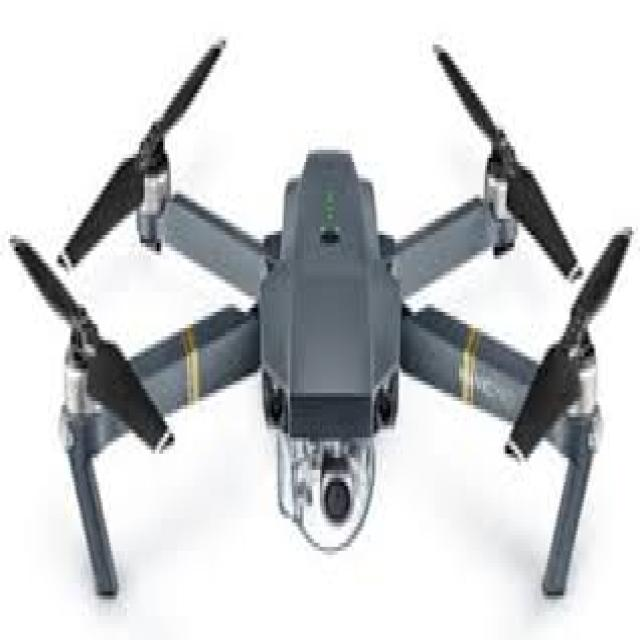drone: (7, 34, 635, 603)
